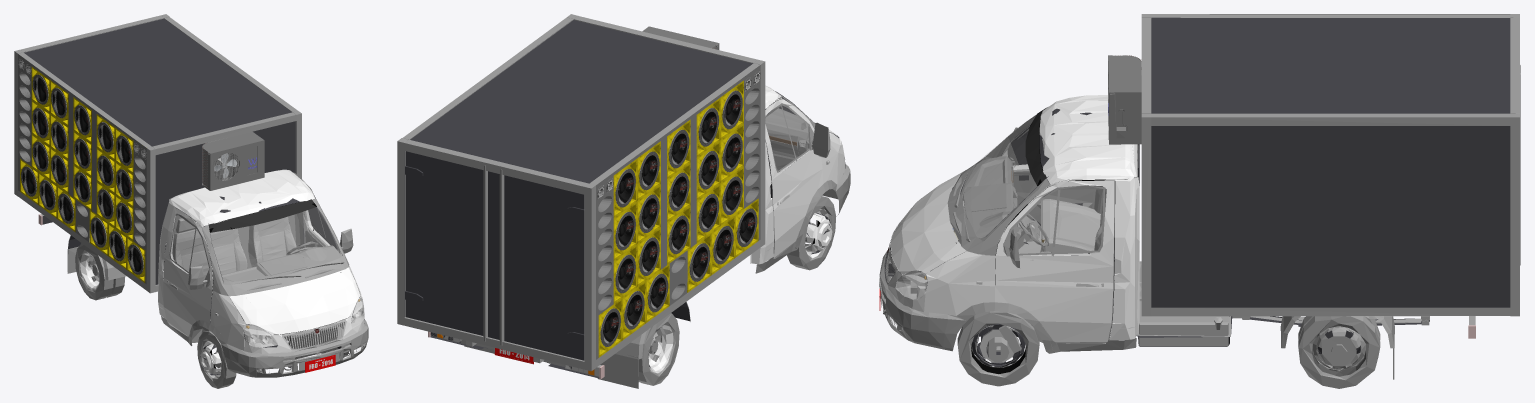
The model's file is carro_som_neutro.glb.
3 views of the same model, side by side, from view 1: azimuth 30°, elevation 25°; view 2: azimuth 150°, elevation 25°; view 3: azimuth 270°, elevation 25° (orthographic). The views are drawn at different scales.
Size of what is drawn, in the model's own units: 1.88 by 2.23 by 4.6.
Materials: 80 (14 with a texture image).
